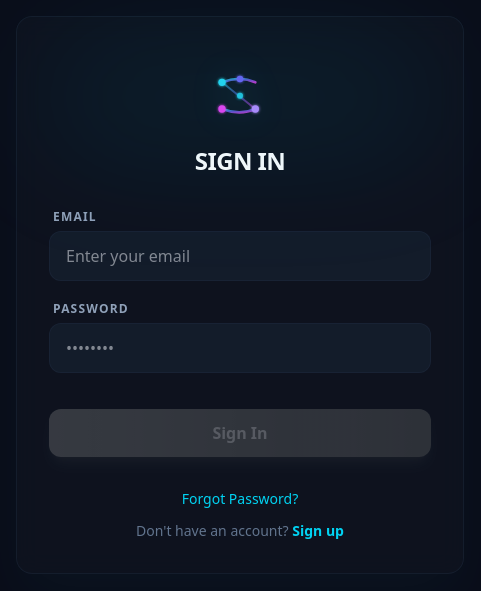
UserAuthPage › Interactions › allows user to type in inputs and updates formData
In the field labelled "Email": (240, 256) [49,231,431,281], type "test@example.com"
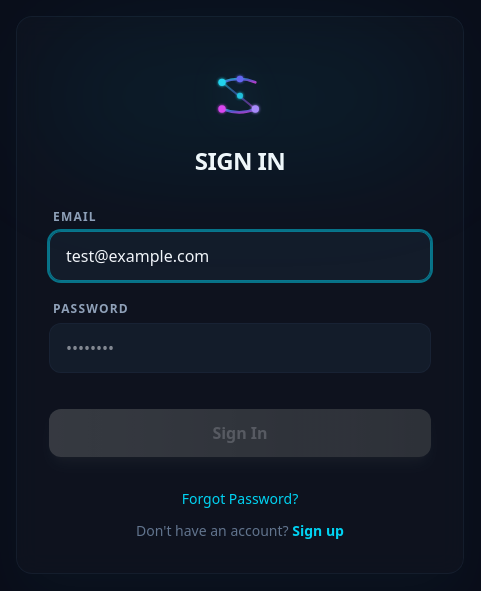
In the password field labelled "Password": (240, 348) [49,323,431,373], type "password123"
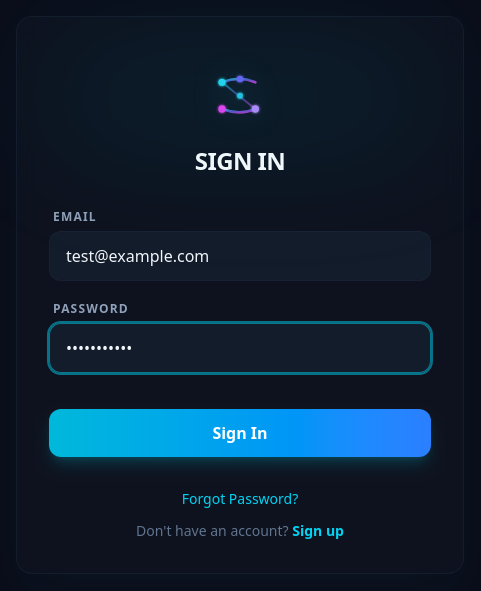
expect the button "Sign In" is enabled: met, box [49,409,431,457]
